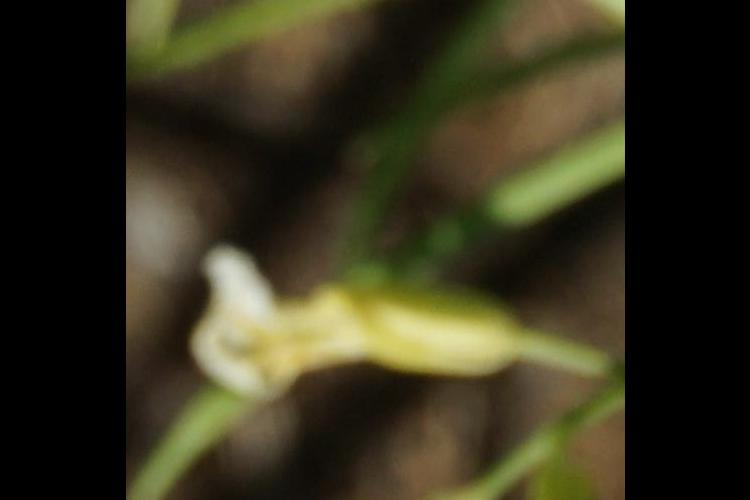yellow: (194, 242, 532, 421)
